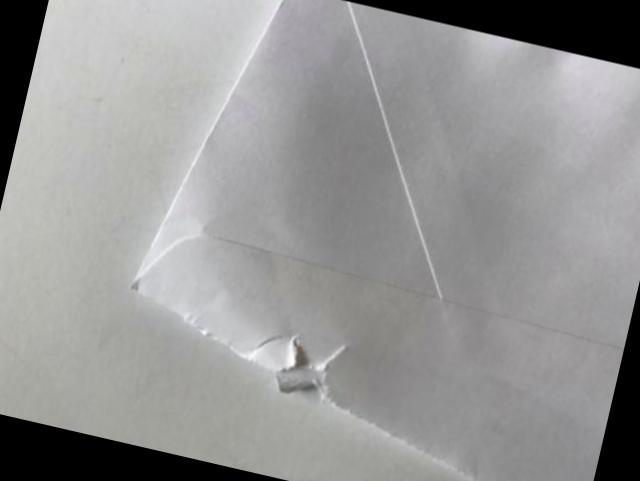cardboard paper: (134, 0, 640, 481)
